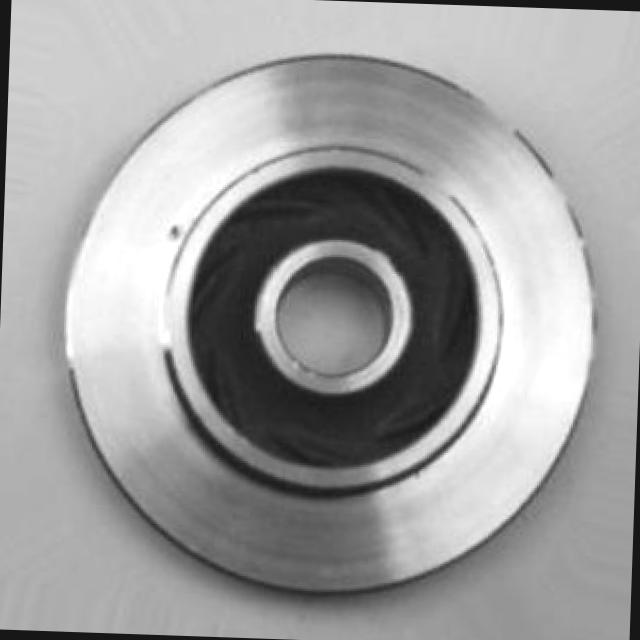Defect: (163, 220, 187, 243)
